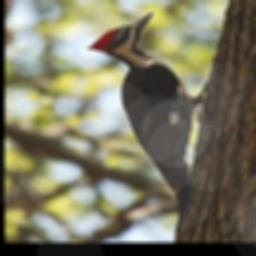Woodpecker: (87, 10, 225, 233)
